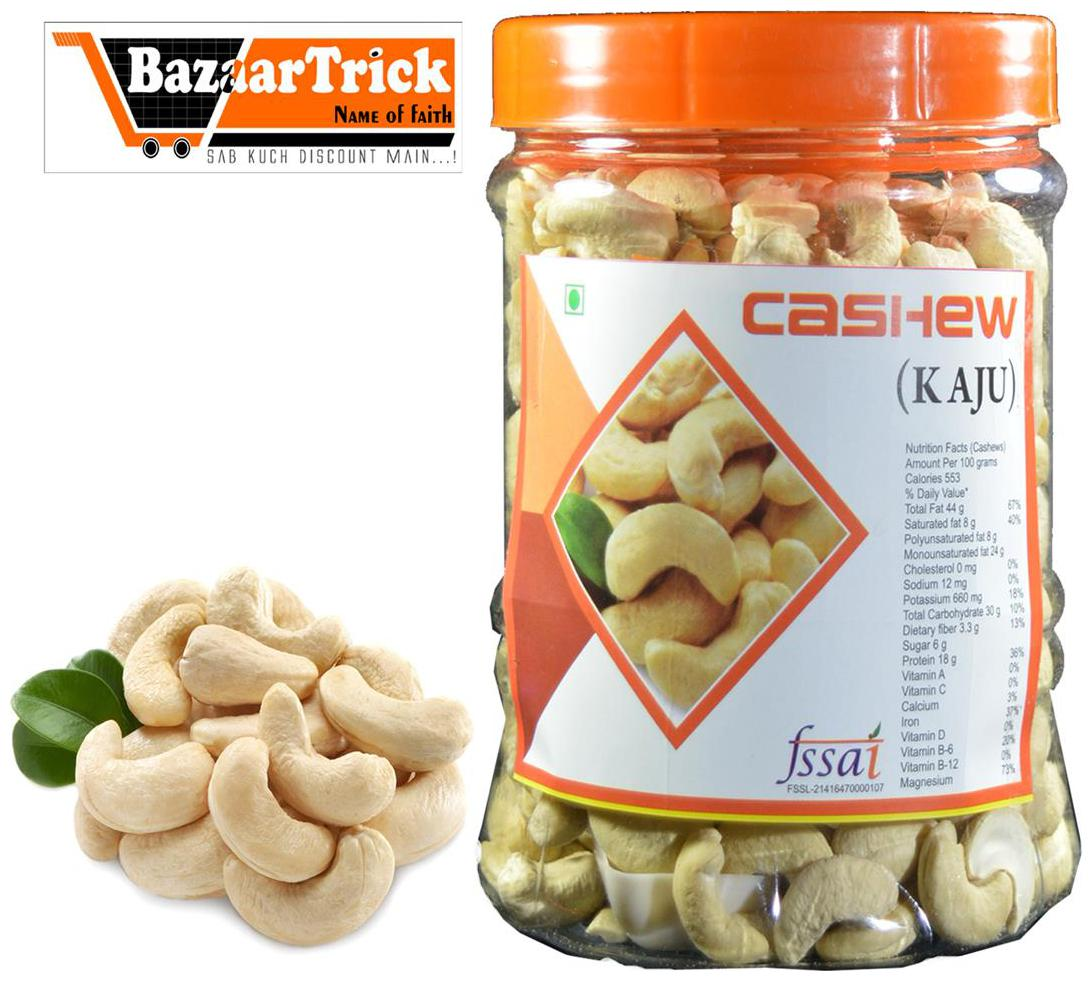fssai: (780, 722, 885, 782)
